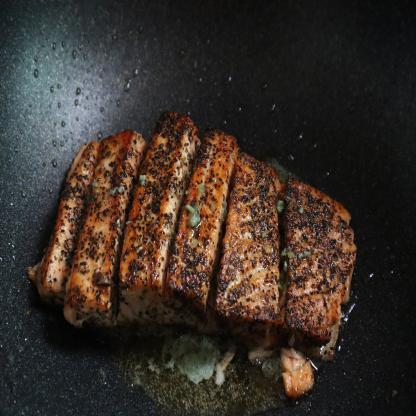Carne: (126, 94, 202, 321), (70, 111, 146, 322), (282, 168, 356, 345), (170, 114, 235, 312), (221, 126, 284, 326), (45, 121, 98, 304)
